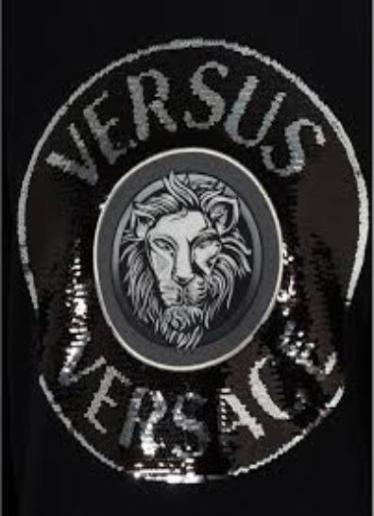VERSACE: (17, 30, 373, 482)
